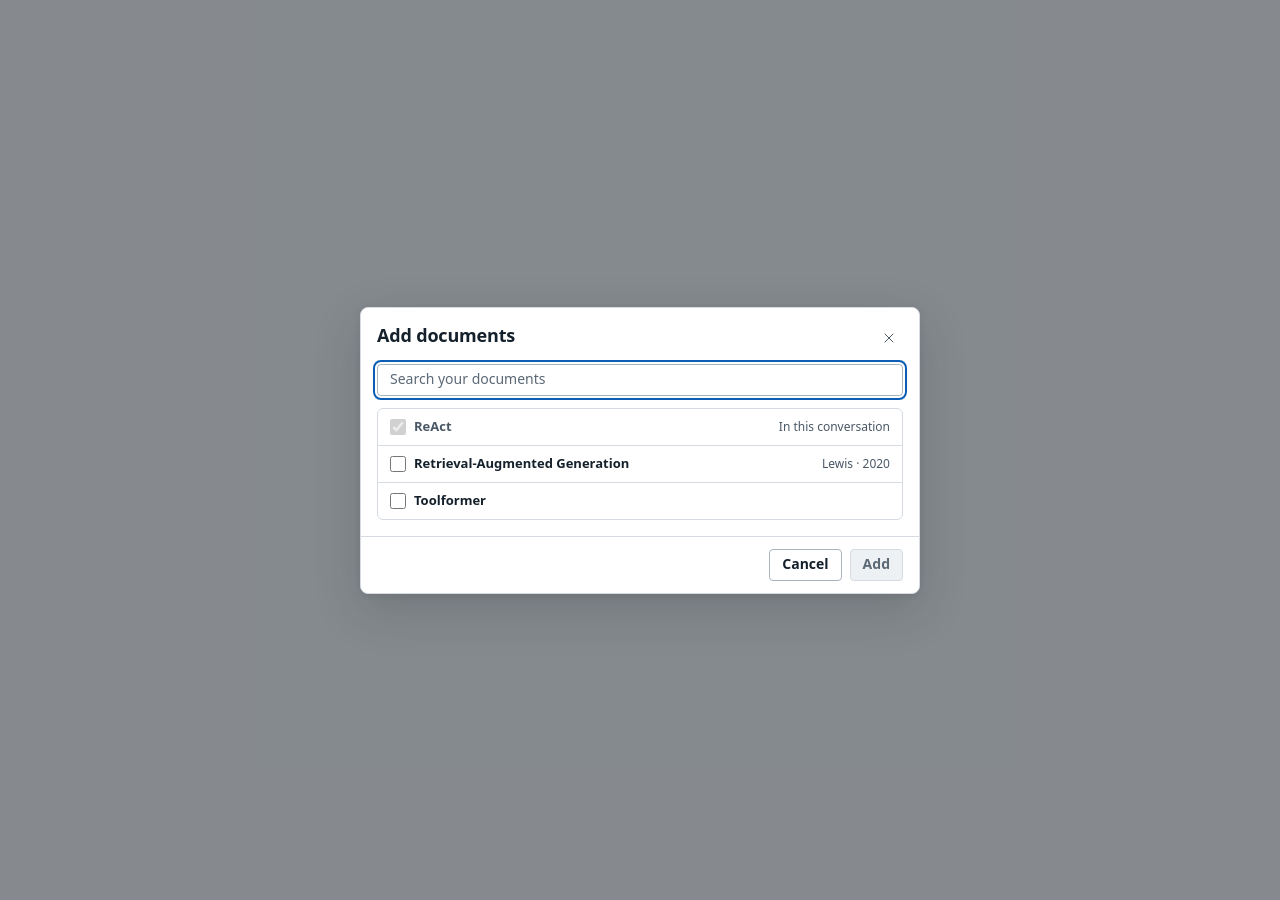
Scenario: DocumentPicker › keeps the dialog and the selection and says so when adding fails
The width and height of the screenshot is (1280, 900).
Click the checkbox labelled "Toolformer". click: {"x": 398, "y": 500}
box: [390, 492, 406, 508]
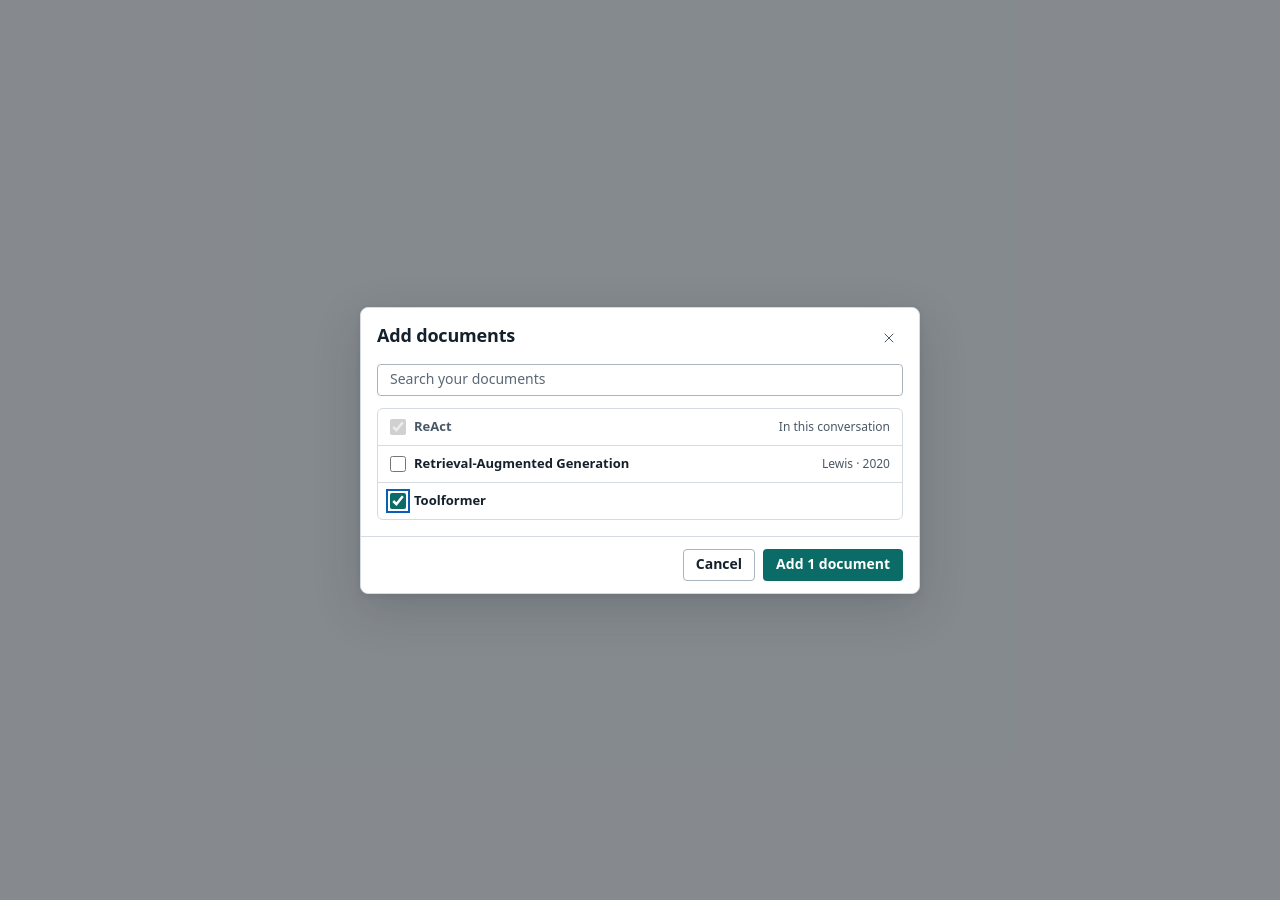
Click the button "Add 1 document". click: {"x": 833, "y": 564}
box: [763, 548, 903, 580]
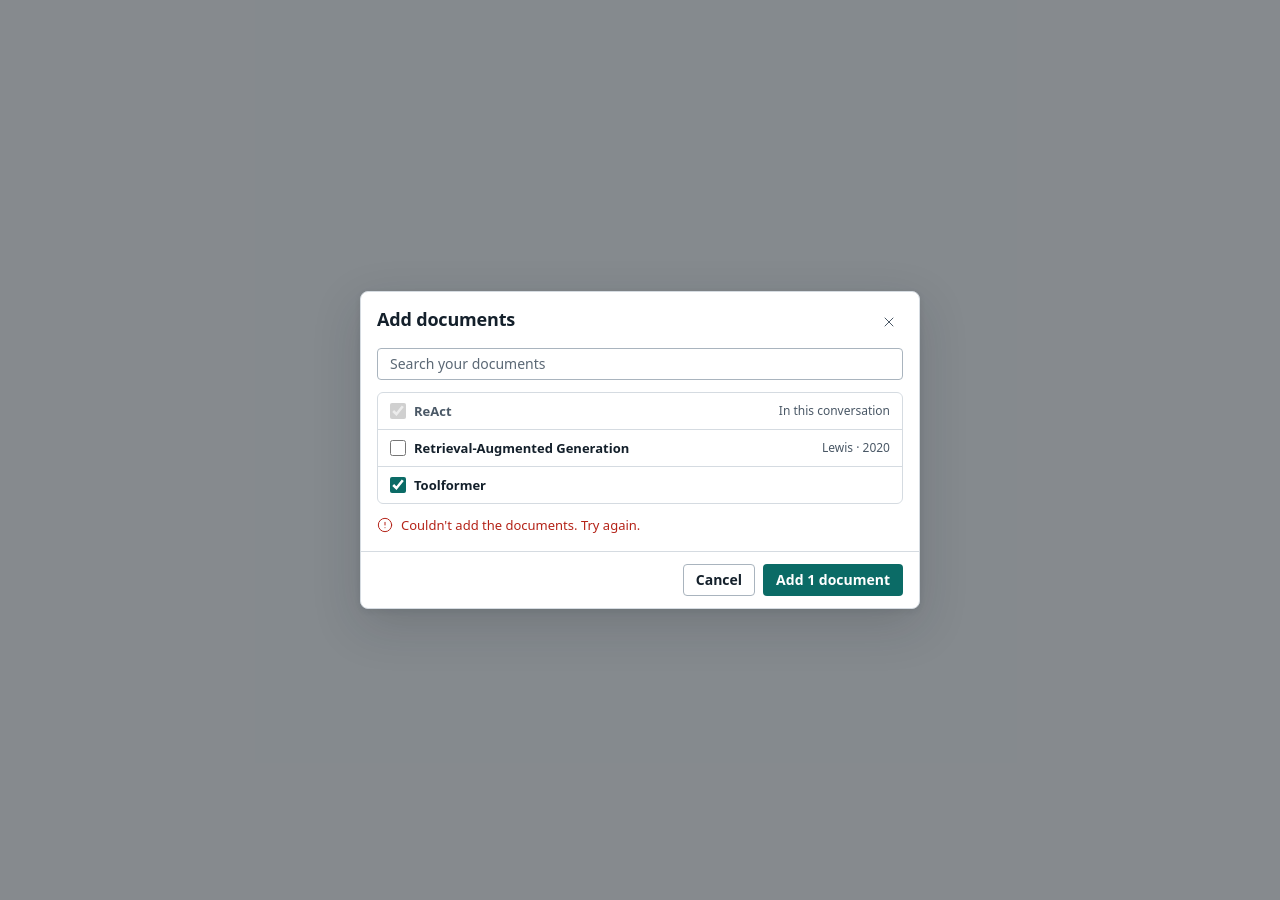
Now the checkbox labelled "Toolformer" is checked, box [390, 477, 406, 493]
Now the button "Add 1 document" is enabled, box [763, 564, 903, 596]
Now the message reads "Couldn't add the documents. Try again.", box [401, 516, 640, 534]
